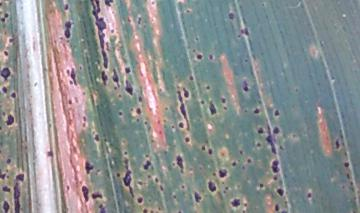tarspot: (94, 1, 111, 70), (119, 152, 137, 200), (11, 171, 27, 213), (265, 121, 280, 157), (63, 63, 81, 88), (175, 86, 187, 117), (62, 18, 75, 42), (173, 152, 186, 175), (81, 158, 97, 176), (122, 76, 135, 98), (204, 177, 219, 196), (79, 183, 91, 206), (207, 98, 220, 119), (240, 76, 254, 94), (110, 66, 120, 89), (4, 112, 18, 128), (191, 189, 204, 206), (1, 65, 14, 82), (227, 196, 243, 209), (236, 26, 252, 39), (269, 158, 281, 174), (89, 190, 106, 201), (216, 166, 229, 180), (332, 136, 343, 152), (98, 70, 109, 86), (44, 148, 57, 161), (273, 186, 287, 198), (140, 159, 153, 171), (271, 106, 283, 119), (64, 95, 76, 108), (122, 65, 134, 77), (60, 1, 72, 13), (250, 106, 264, 116), (255, 123, 265, 137), (2, 199, 12, 213), (193, 51, 204, 63), (226, 11, 237, 23), (341, 159, 353, 170), (133, 104, 144, 116), (1, 183, 12, 195), (304, 190, 315, 201), (182, 6, 193, 17), (252, 140, 264, 150), (92, 131, 100, 146), (115, 107, 125, 119), (1, 12, 10, 25), (229, 159, 239, 170), (205, 51, 215, 62), (176, 119, 186, 130), (181, 134, 191, 145), (203, 83, 214, 93), (186, 72, 196, 83), (1, 48, 11, 59), (273, 201, 282, 213), (156, 184, 168, 193), (219, 94, 229, 104), (133, 195, 144, 204), (152, 175, 161, 186), (6, 35, 15, 46), (344, 170, 353, 181), (207, 144, 214, 158), (246, 156, 254, 168), (221, 104, 233, 112), (140, 204, 150, 213), (198, 97, 207, 107), (179, 181, 188, 191), (3, 156, 13, 165), (223, 184, 232, 194), (11, 91, 19, 102), (199, 141, 206, 153), (271, 173, 279, 183), (257, 180, 265, 190), (135, 95, 145, 103), (1, 84, 9, 94), (236, 148, 246, 156), (171, 191, 179, 201), (114, 170, 121, 180), (1, 172, 8, 181)
